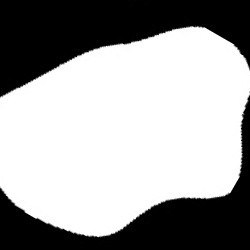spot: (0, 27, 249, 238)
